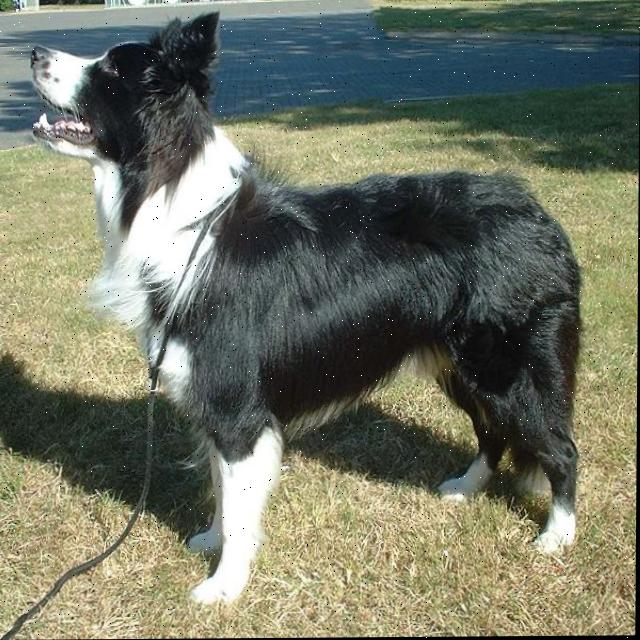BORDER_COLLIE: (16, 0, 594, 602)
